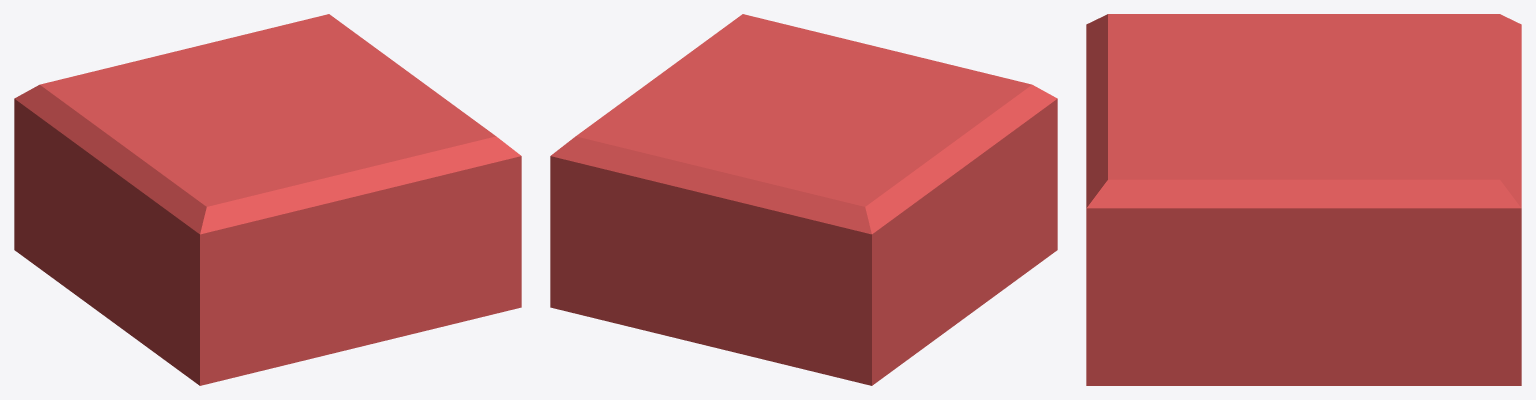
The model's file is BtnSqu03.fbx.
3 views of the same model, side by side, from view 1: azimuth 30°, elevation 25°; view 2: azimuth 150°, elevation 25°; view 3: azimuth 270°, elevation 25° (orthographic). The views are drawn at different scales.
Parts seen in each view (by area): view 1: BtnSqu03; view 2: BtnSqu03; view 3: BtnSqu03.
Part boxes in pixels (x1=…): BtnSqu03: x1=14, y1=14, x2=521, y2=385; BtnSqu03: x1=550, y1=14, x2=1057, y2=385; BtnSqu03: x1=1086, y1=14, x2=1521, y2=385.
Size of the model in its own units: 2 by 1 by 2.
